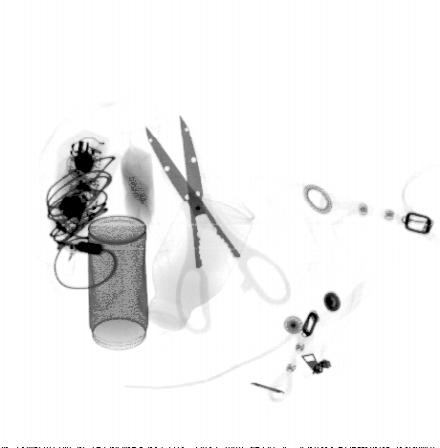Scissors: (143, 115, 290, 333)
